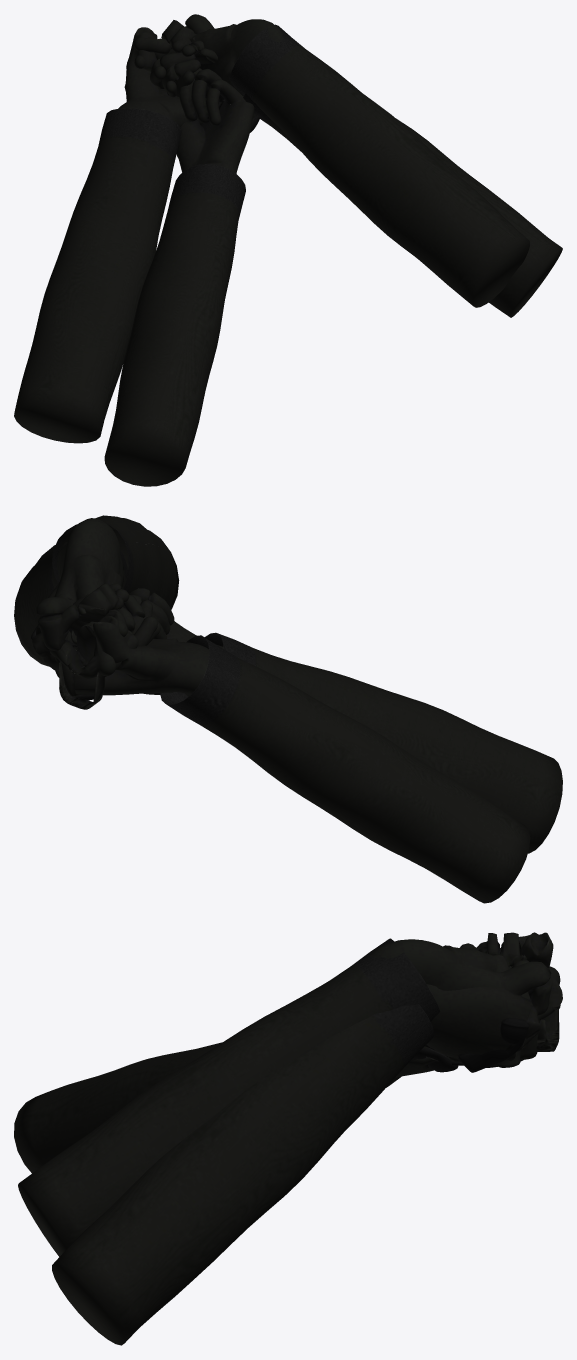
The model's file is hands.glb.
3 renders of one model, top to bottom at view 1: azimuth 30°, elevation 25°; view 2: azimuth 150°, elevation 25°; view 3: azimuth 270°, elevation 25°, orthographic. The views are drawn at different scales.
Parts seen in each view (by area): view 1: arm_axe_r, arm_support_l, arm_load_l, arm_grip_r; view 2: arm_support_l, arm_load_l, arm_axe_r, arm_grip_r; view 3: arm_grip_r, arm_axe_r, arm_load_l, arm_support_l.
Boxes of the visible parts, x1,y1,x2,y2 form: arm_axe_r: [151, 19, 529, 307]; arm_support_l: [14, 20, 217, 443]; arm_load_l: [104, 68, 259, 486]; arm_grip_r: [134, 14, 562, 317]; arm_support_l: [54, 583, 530, 903]; arm_load_l: [71, 588, 562, 853]; arm_axe_r: [49, 515, 179, 678]; arm_grip_r: [14, 542, 160, 709]; arm_grip_r: [52, 935, 559, 1345]; arm_axe_r: [18, 938, 562, 1256]; arm_load_l: [14, 1042, 458, 1173]; arm_support_l: [386, 932, 553, 1087].
Size of what is drawn, in the model's own units: 0.5872 by 0.3587 by 0.4403.
1 material, 1 textured.
